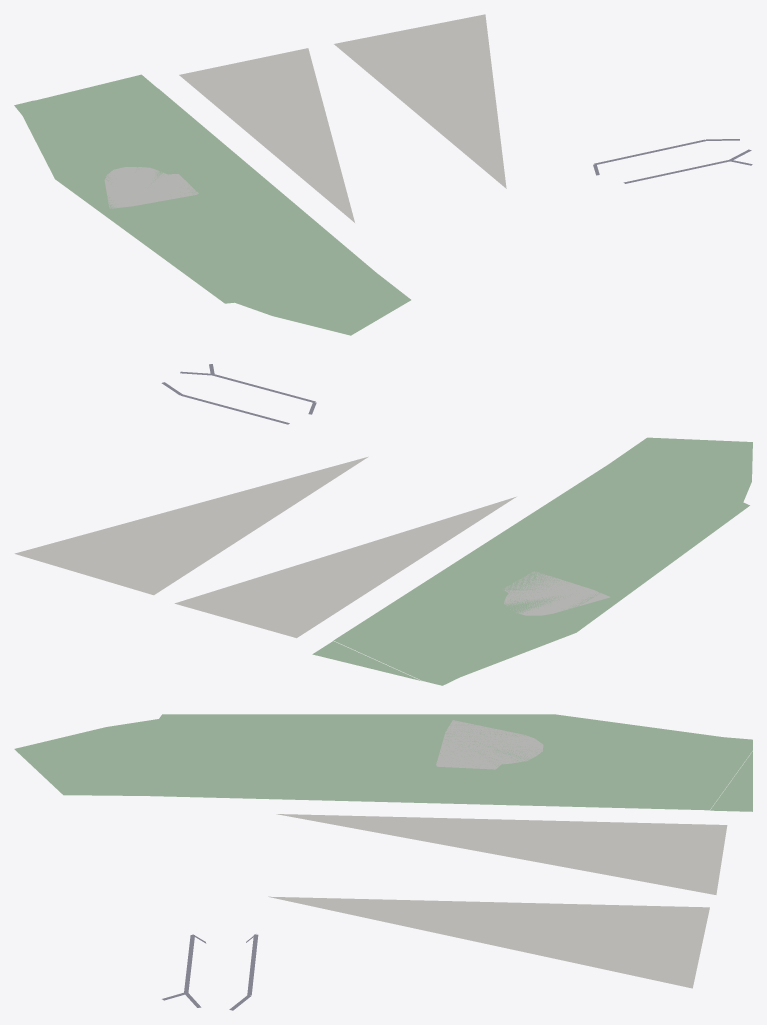
The model's file is 137_107_mid.glb.
3 renders of one model, top to bottom at view 1: azimuth 30°, elevation 25°; view 2: azimuth 150°, elevation 25°; view 3: azimuth 270°, elevation 25°, orthographic. The views are drawn at different scales.
Size of the model in its own units: 482 by 8.79 by 491.
